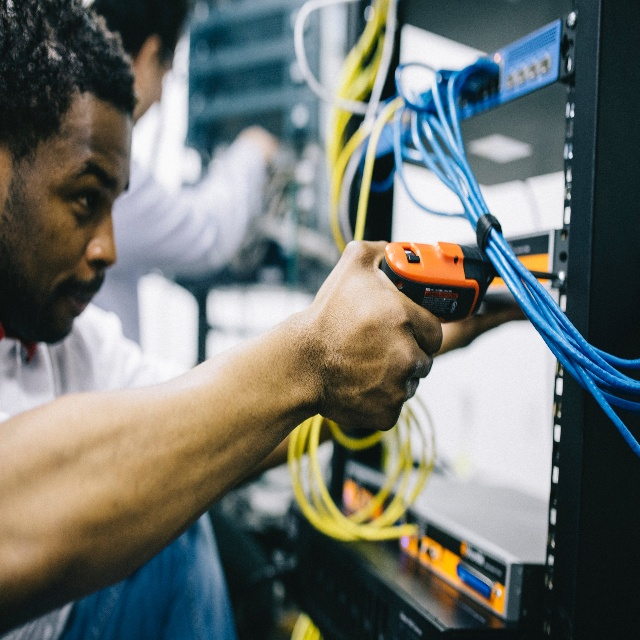Sin_guantes: (308, 238, 441, 431)
